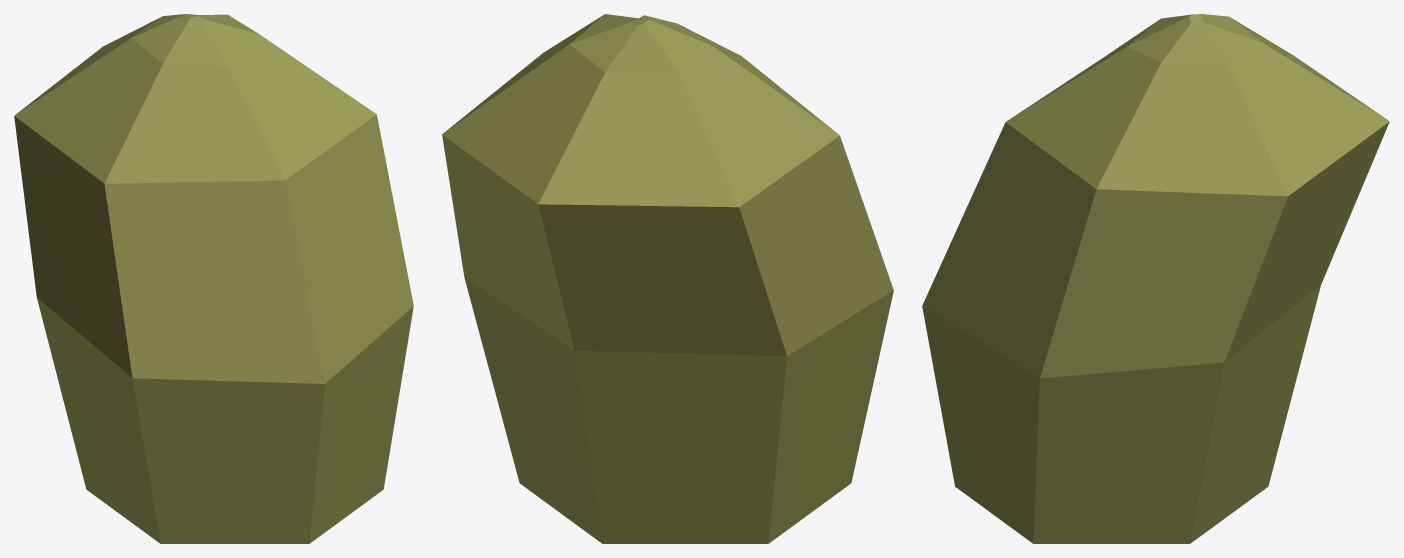
Rendered from Forest_Shrub2.fbx.
3 renders of one model, left to right at view 1: azimuth 30°, elevation 25°; view 2: azimuth 150°, elevation 25°; view 3: azimuth 270°, elevation 25°, orthographic. The views are drawn at different scales.
Visible parts, largest first — view 1: Cylinder.002; view 2: Cylinder.002; view 3: Cylinder.002.
Boxes of the visible parts, left/top/right/bottom form: Cylinder.002: left=14, top=14, right=413, bottom=543; Cylinder.002: left=442, top=14, right=893, bottom=543; Cylinder.002: left=922, top=14, right=1389, bottom=543.
Bounding box in the file's own units: 184 × 271 × 245.
